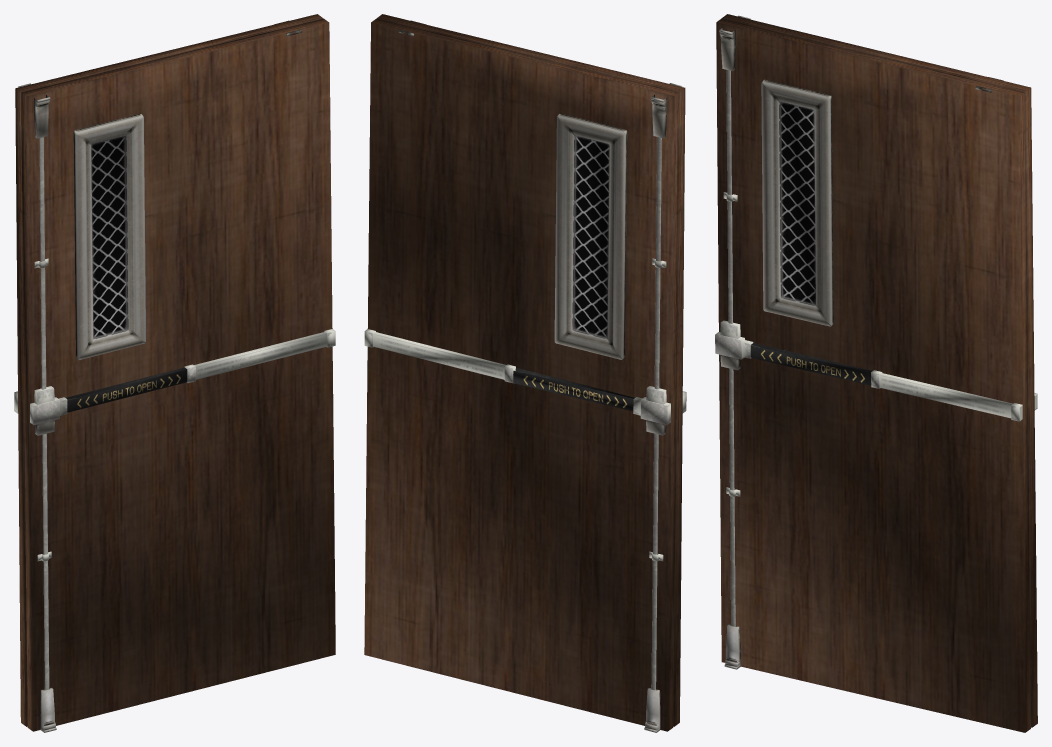
File: small door.fbx
3 renders of one model, left to right at view 1: azimuth 30°, elevation 25°; view 2: azimuth 150°, elevation 25°; view 3: azimuth 330°, elevation 25°, orthographic.
Visible parts, largest first — view 1: Wood door.001; view 2: Wood door.001; view 3: Wood door.001.
Boxes of the visible parts, x1,y1,x2,y2 form: Wood door.001: (14, 14, 335, 732); Wood door.001: (364, 14, 686, 732); Wood door.001: (715, 14, 1037, 732).
Bounding box in the file's own units: 1.17 × 2.31 × 0.1358.
1 material, 1 textured.
